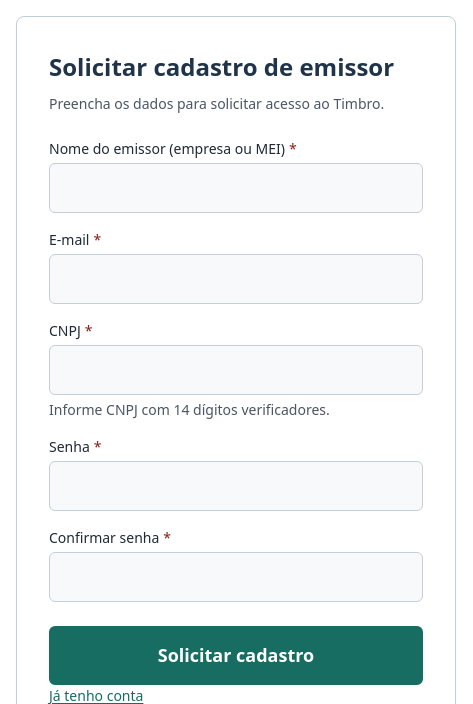
Test: CadastroEmissorPage › envia solicitação e mostra a mensagem de sucesso sem autenticar
Type "Instituto Exemplo" into the field labelled "Nome do emissor (empresa ou MEI)*".
click(236, 188); type("Instituto Exemplo")  # box [49,163,423,213]
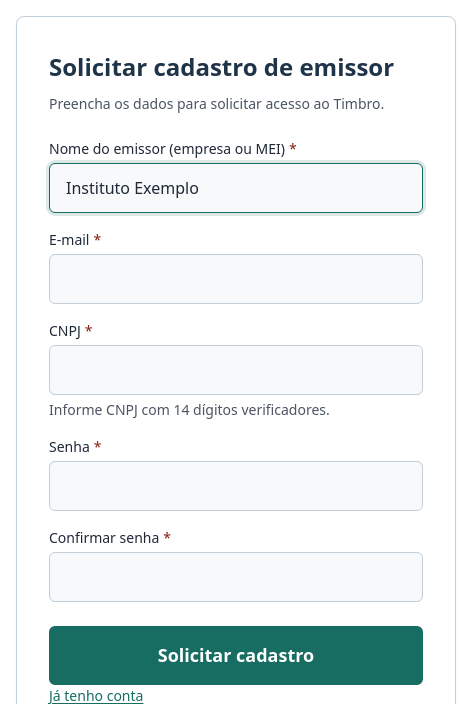
Type "nova@timbro.test" into the field labelled "E-mail*".
click(236, 279); type("nova@timbro.test")  # box [49,254,423,304]
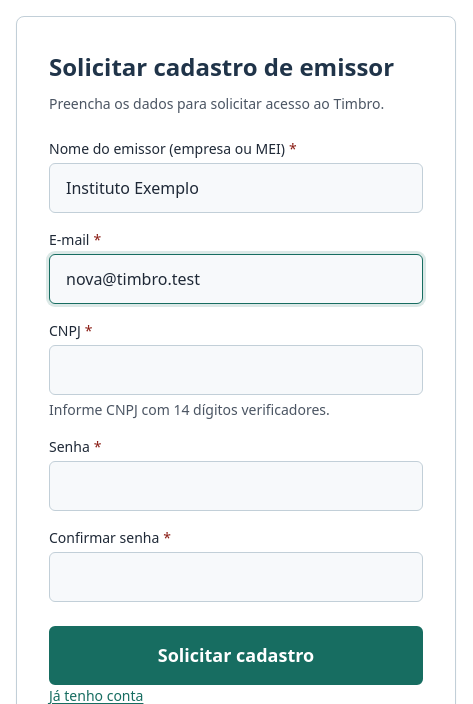
Type "11222333000181" into the field labelled "CNPJ*".
click(236, 370); type("11222333000181")  # box [49,345,423,395]
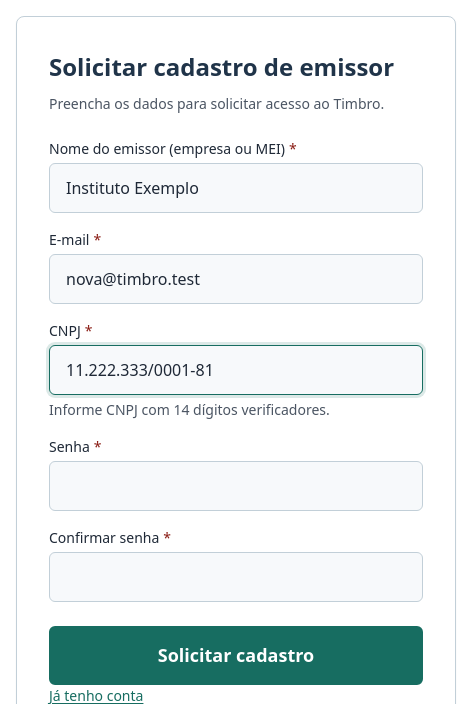
Type "senha123" into the password field labelled "Senha*".
click(236, 486); type("senha123")  # box [49,461,423,511]
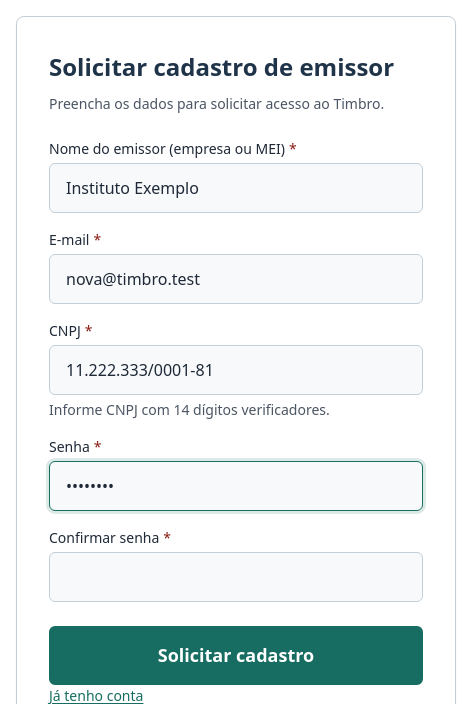
Type "senha123" into the password field labelled "Confirmar senha*".
click(236, 577); type("senha123")  # box [49,552,423,602]
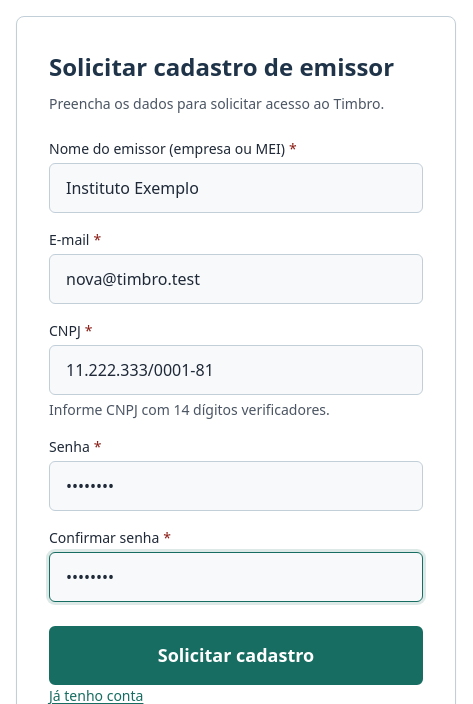
Click the button "Solicitar cadastro".
click(236, 655)  # box [49,626,423,684]
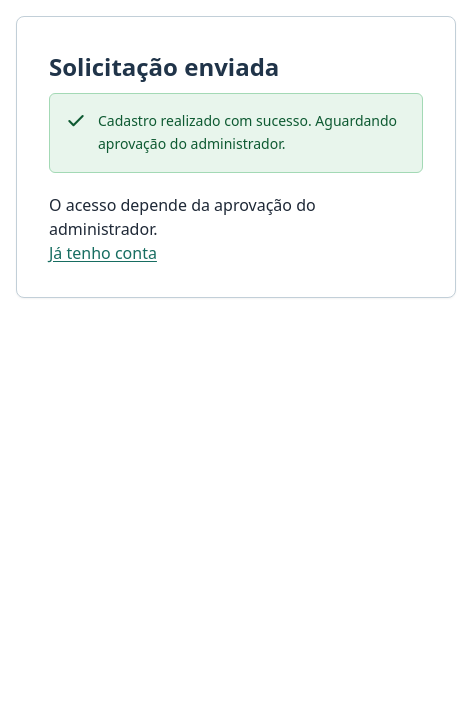
Check: the text "Cadastro realizado com sucesso. Aguardando aprovação do administrador." is shown, box [98,110,406,156]
Check: the text "O acesso depende da aprovação do administrador." is shown, box [49,194,316,240]
